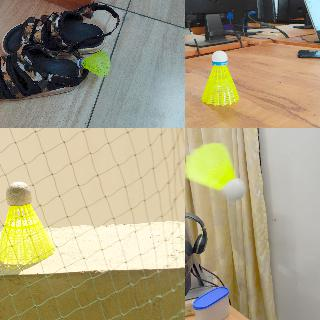shuttlecock: (0, 181, 55, 264), (185, 142, 246, 200), (202, 50, 238, 106), (76, 49, 110, 76)
